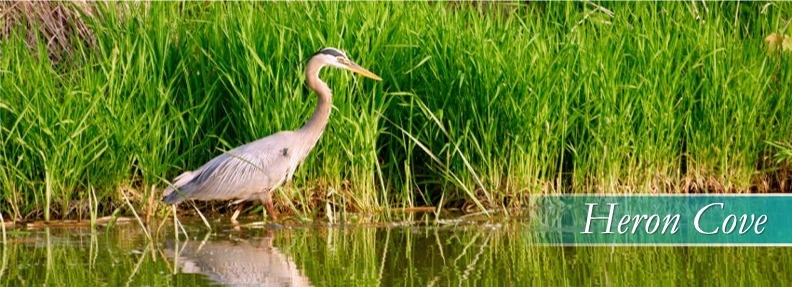heron: (161, 49, 382, 239)
